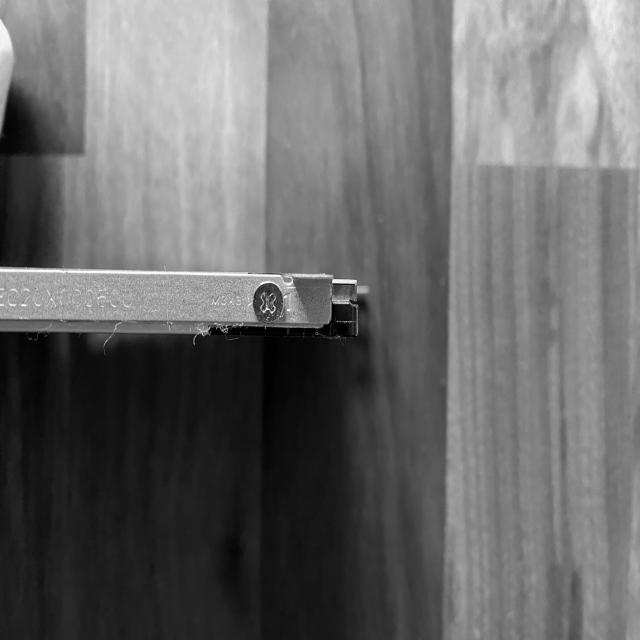PhillipsScrewHead: (253, 280, 285, 325)
